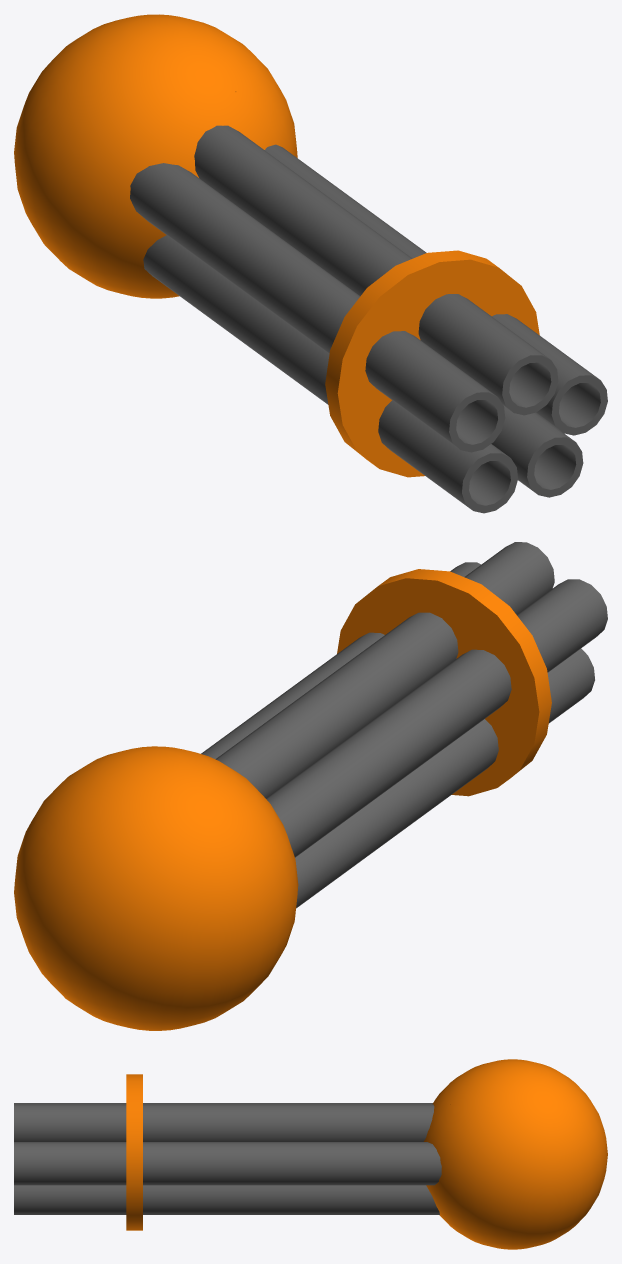
Rendered from machine_gun.obj.
The picture shows the model from 3 angles, top to bottom: view 1: azimuth 30°, elevation 25°; view 2: azimuth 150°, elevation 25°; view 3: azimuth 270°, elevation 25°; orthographic projection. The views are drawn at different scales.
Visible parts, largest first — view 1: Sphere; view 2: Sphere; view 3: Sphere.
Boxes of the visible parts, bbox=[...] form: Sphere: bbox=[14, 14, 607, 513]; Sphere: bbox=[14, 542, 607, 1030]; Sphere: bbox=[14, 1059, 607, 1249].
Bounding box in the file's own units: 0.6636 × 0.6636 × 2.07.
